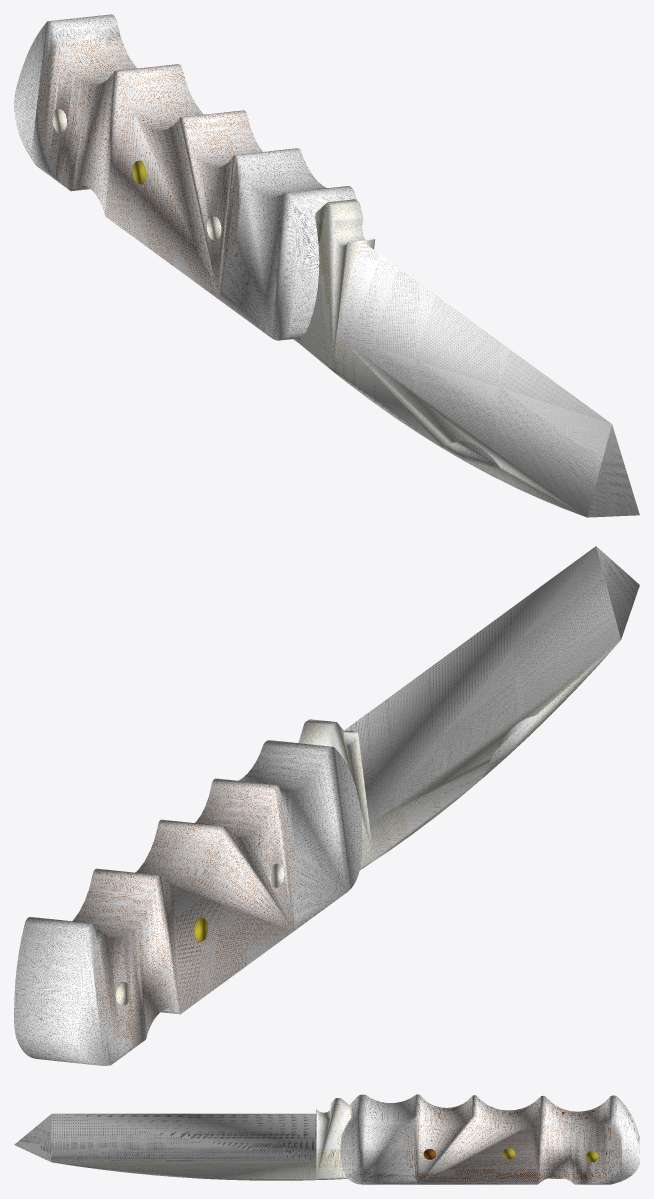
Rendered from model_align.obj.
3 views of the same model, one above another, from view 1: azimuth 30°, elevation 25°; view 2: azimuth 150°, elevation 25°; view 3: azimuth 270°, elevation 25° (orthographic). The views are drawn at different scales.
Parts seen in each view (by area): view 1: mesh1_mesh1-geometry; view 2: mesh1_mesh1-geometry; view 3: mesh1_mesh1-geometry.
Boxes of the visible parts, left/top/right/bottom form: mesh1_mesh1-geometry: left=14, top=14, right=639, bottom=517; mesh1_mesh1-geometry: left=14, top=546, right=639, bottom=1065; mesh1_mesh1-geometry: left=14, top=1094, right=639, bottom=1184.
Size of the model in its own units: 0.0158 by 0.0287 by 0.202.
